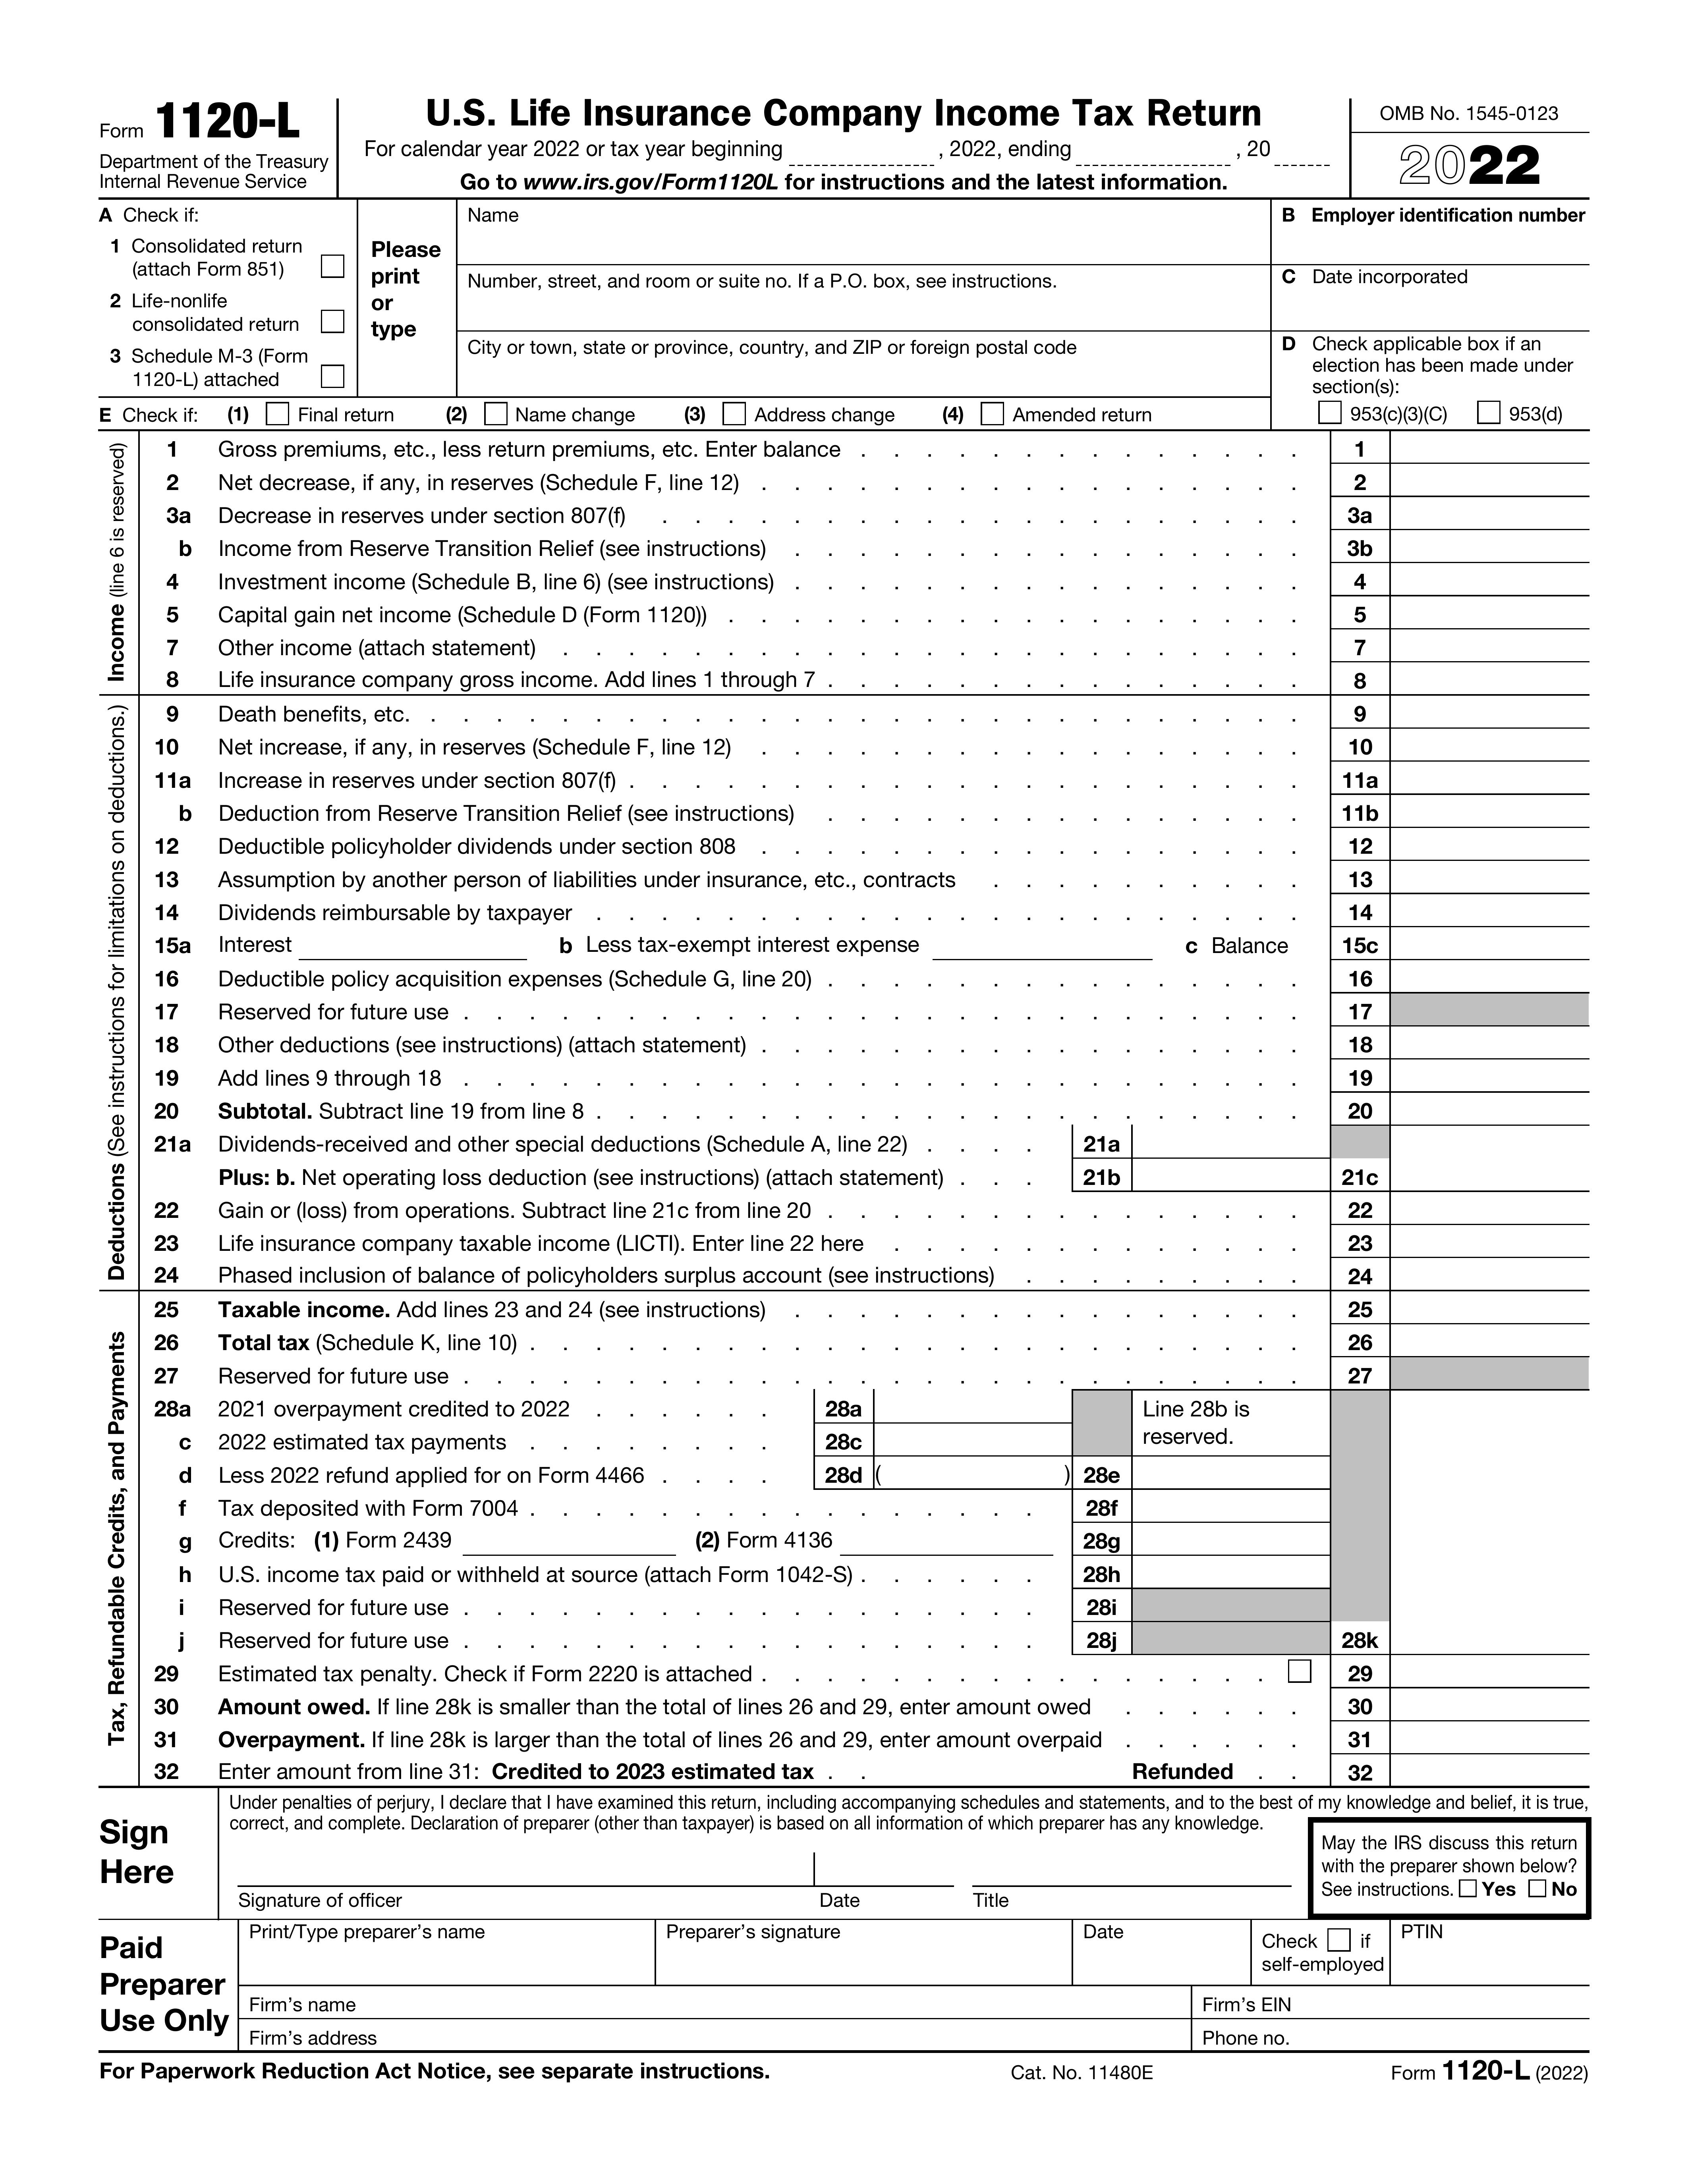form: (67, 76, 1628, 399), (89, 1783, 1624, 2058)
table: (67, 427, 1631, 1785)
